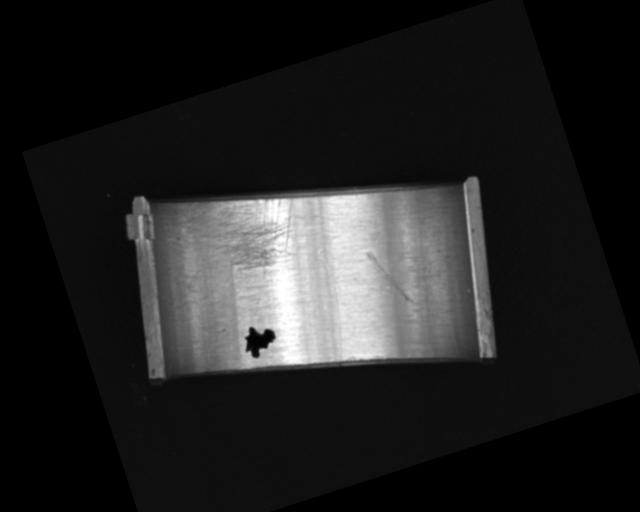blot: (238, 319, 281, 362)
nick: (305, 247, 361, 362), (364, 241, 416, 315)
scratch: (181, 171, 313, 296)
